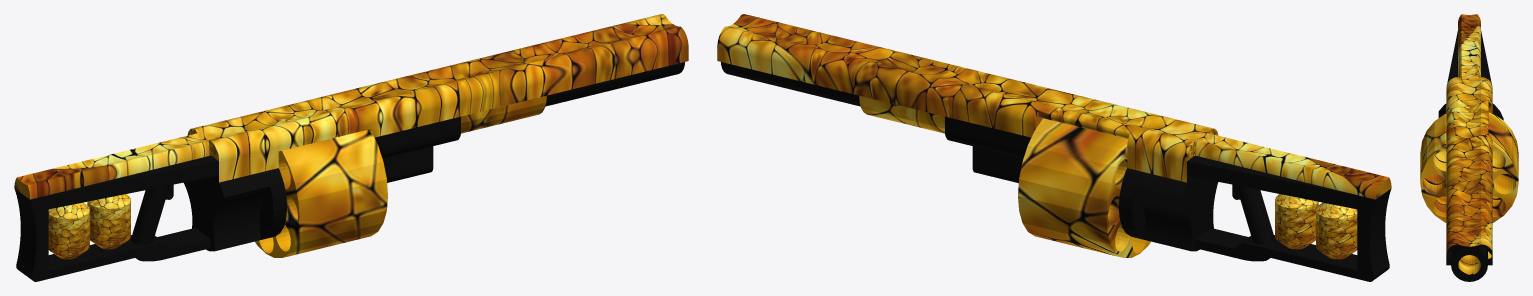
Rendered from Lanzagranadas_goldenneon.FBX.
3 renders of one model, left to right at view 1: azimuth 30°, elevation 25°; view 2: azimuth 150°, elevation 25°; view 3: azimuth 270°, elevation 25°, orthographic. The views are drawn at different scales.
Parts seen in each view (by area): view 1: Skin, Group1, Cargador, Etiqueta; view 2: Skin, Group1, Cargador; view 3: Skin, Cargador, Group1.
Part boxes in pixels (left/top/right/bottom): Skin: left=14, top=14, right=688, bottom=259; Group1: left=14, top=62, right=684, bottom=281; Cargador: left=255, top=129, right=387, bottom=257; Etiqueta: left=48, top=161, right=218, bottom=209; Skin: left=717, top=14, right=1391, bottom=259; Group1: left=721, top=62, right=1391, bottom=281; Cargador: left=1018, top=118, right=1150, bottom=257; Skin: left=1446, top=14, right=1492, bottom=275; Cargador: left=1420, top=112, right=1518, bottom=222; Group1: left=1438, top=31, right=1503, bottom=281.
Size of the model in its own units: 8.05 by 1.58 by 1.44.
Materials: 2 (1 with a texture image).
